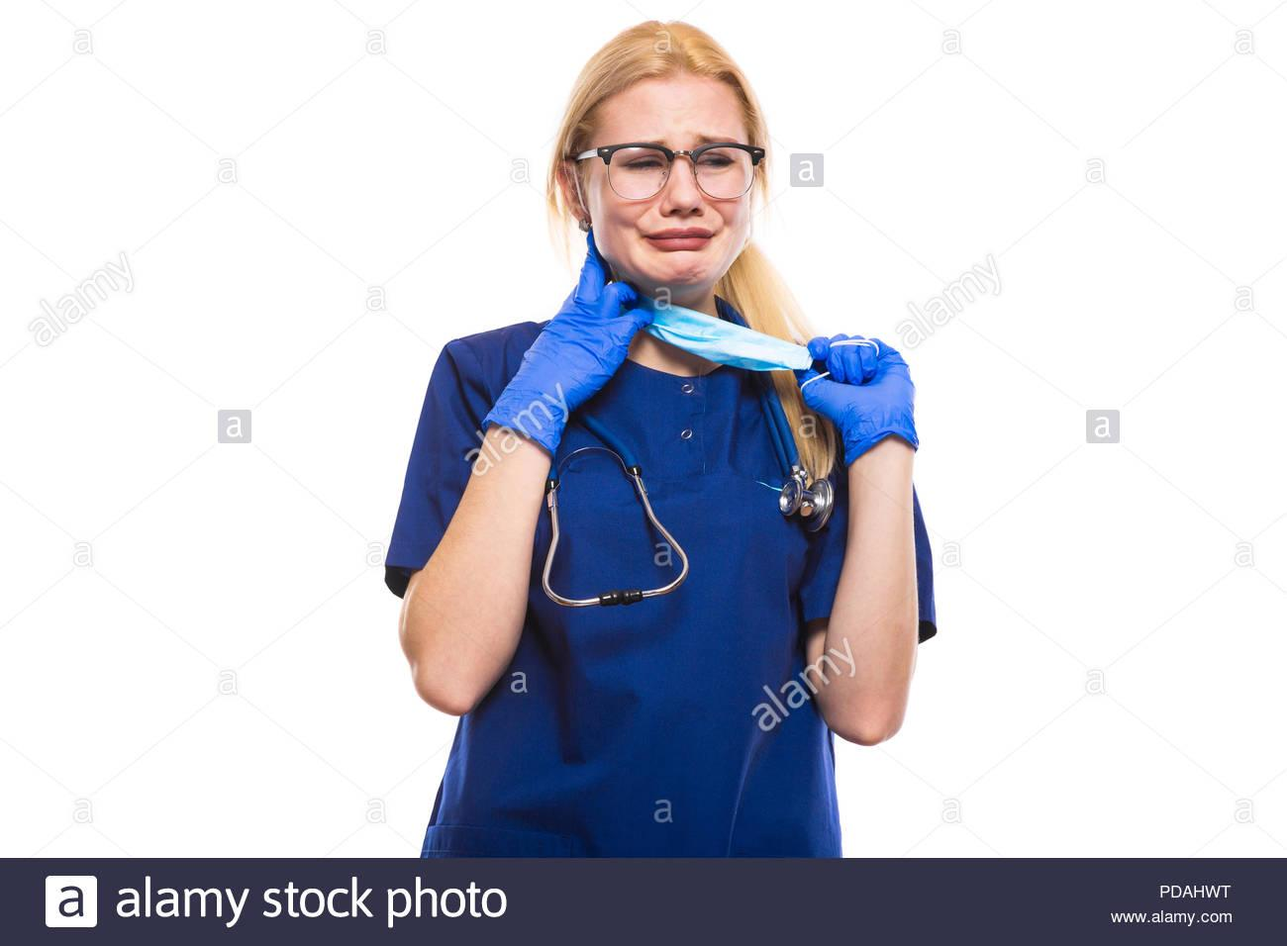Wore Mask Incorrectly: (549, 46, 856, 398)
